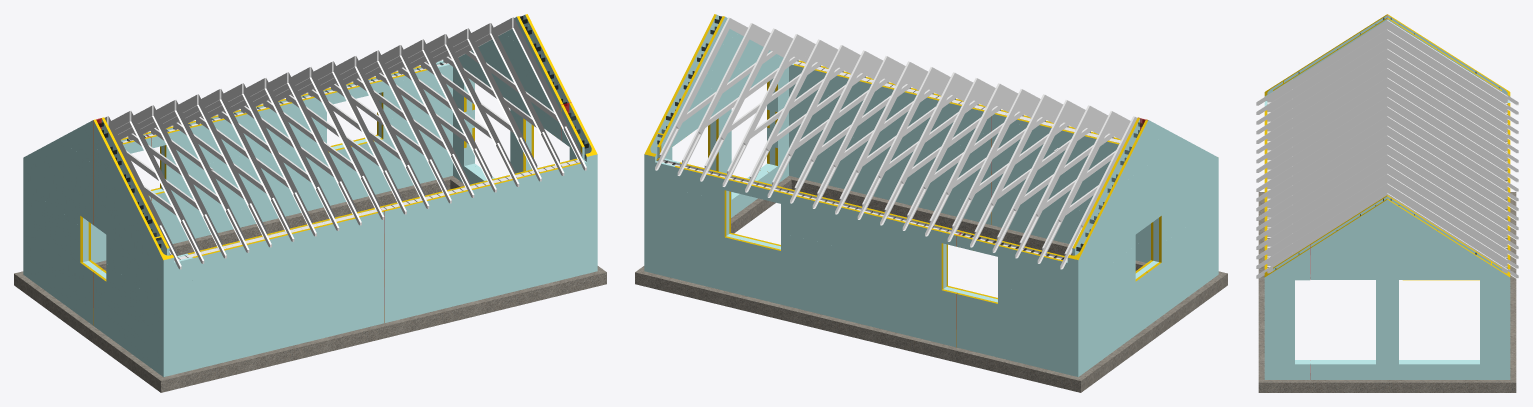
The model's file is Springwood_Mapperly_Garage_Model.glb.
The picture shows the model from 3 angles, left to right: view 1: azimuth 30°, elevation 25°; view 2: azimuth 150°, elevation 25°; view 3: azimuth 270°, elevation 25°; orthographic projection. The views are drawn at different scales.
Visible parts, largest first — view 1: Geom3D (×70), Geom3D_TLSID2321106 (×19), Geom3D_TLSID2321307 (×16), Geom3D_Wall Plate__TLSID2321456; view 2: Geom3D (×70), Geom3D_TLSID2321007 (×19), Geom3D_Wall Plate__TLSID2321456 (×2), Geom3D_TLSID2321307 (×2); view 3: Geom3D (×36), Geom3D_TLSID2321007 (×19), Geom3D_TLSID2321106 (×19).
Part boxes in pixels (x1,y1,x2,y2): Geom3D (×70): [14, 55, 606, 392]; Geom3D_TLSID2321106 (×19): [108, 17, 582, 256]; Geom3D_TLSID2321307 (×16): [128, 51, 560, 204]; Geom3D_Wall Plate__TLSID2321456: [174, 159, 584, 261]; Geom3D (×70): [635, 41, 1227, 392]; Geom3D_TLSID2321007 (×19): [659, 17, 1134, 256]; Geom3D_Wall Plate__TLSID2321456 (×2): [657, 62, 1120, 261]; Geom3D_TLSID2321307 (×2): [728, 62, 866, 143]; Geom3D (×36): [1258, 192, 1516, 392]; Geom3D_TLSID2321007 (×19): [1387, 20, 1507, 273]; Geom3D_TLSID2321106 (×19): [1267, 20, 1387, 273].
Size of the model in its own units: 11.89 by 5.55 by 6.91.
Materials: 110 (1 with a texture image).
